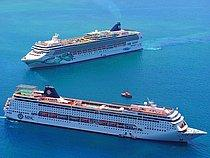Ship: (2, 80, 210, 148), (17, 20, 152, 71)
